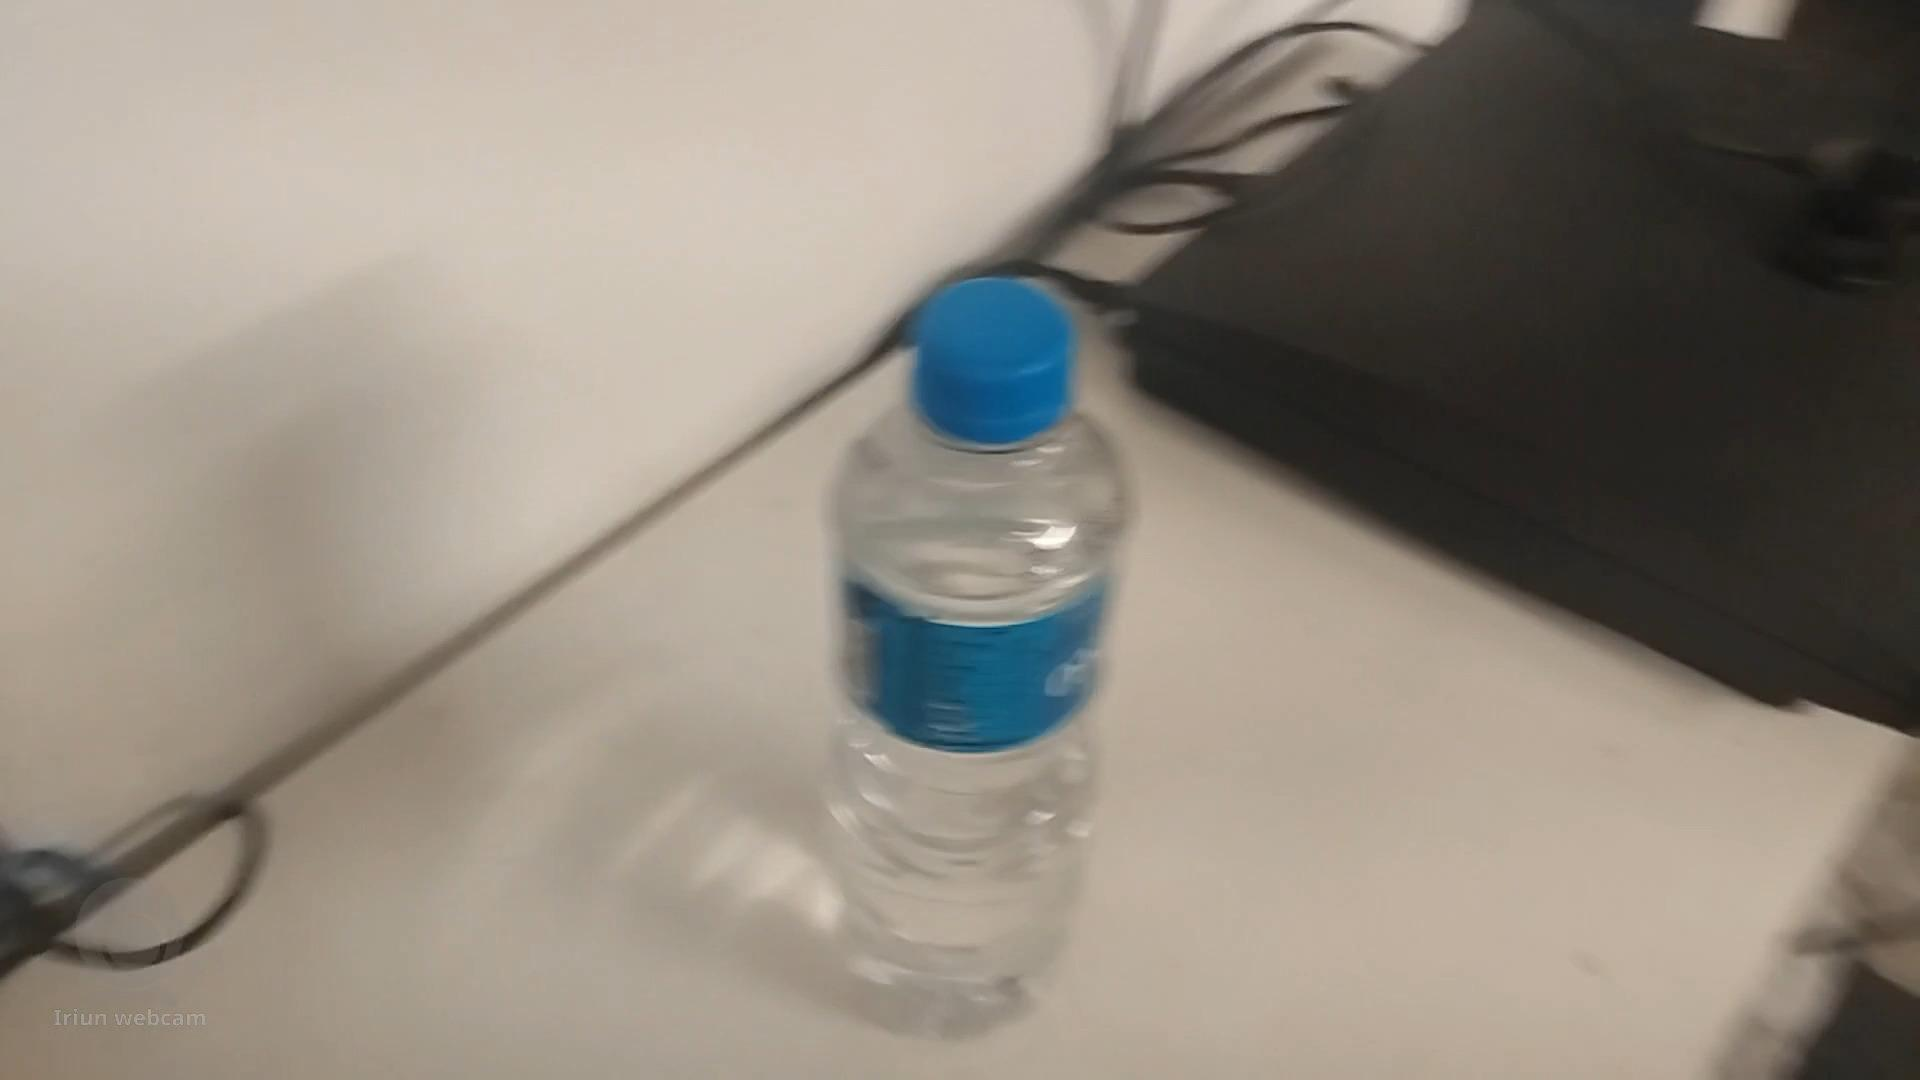agua: (824, 272, 1124, 1023)
